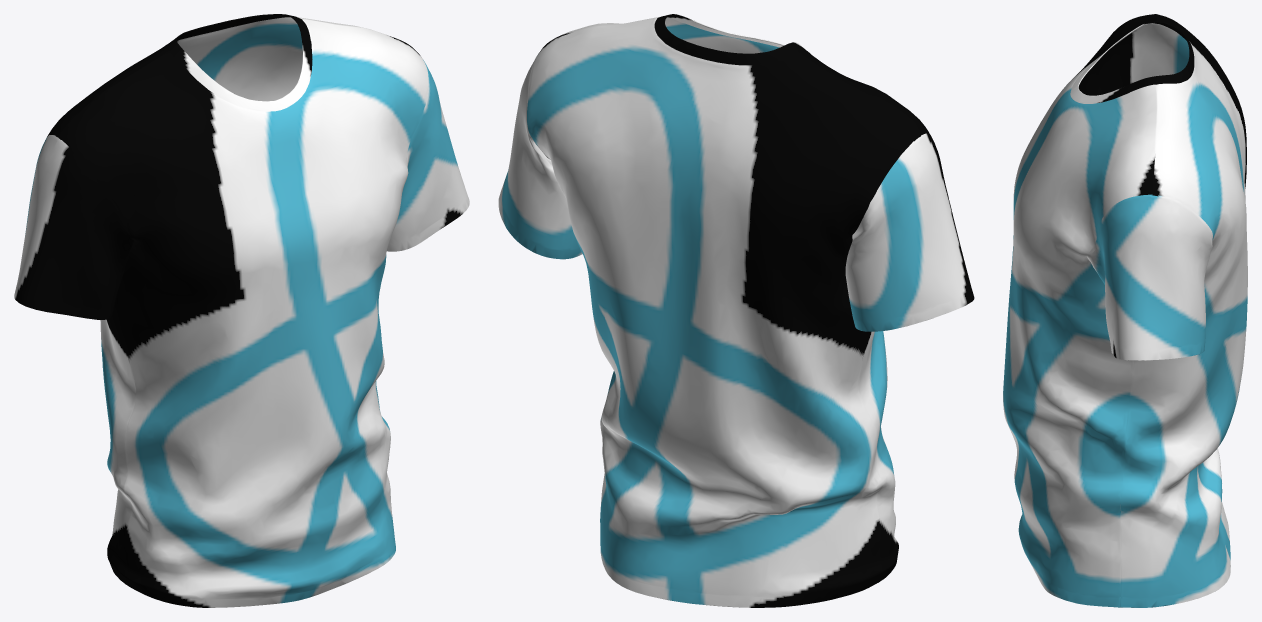
File: t_shirt.glb
The picture shows the model from 3 angles, left to right: view 1: azimuth 30°, elevation 25°; view 2: azimuth 150°, elevation 25°; view 3: azimuth 270°, elevation 25°; orthographic projection. The views are drawn at different scales.
Parts seen in each view (by area): view 1: t_shirt; view 2: t_shirt; view 3: t_shirt.
Boxes of the visible parts, x1,y1,x2,y2 form: t_shirt: (14,14,469,607); t_shirt: (498,14,974,607); t_shirt: (1003,14,1247,607).
Bounding box in the file's own units: 0.5502 × 0.613 × 0.269.
1 material, 1 textured.
